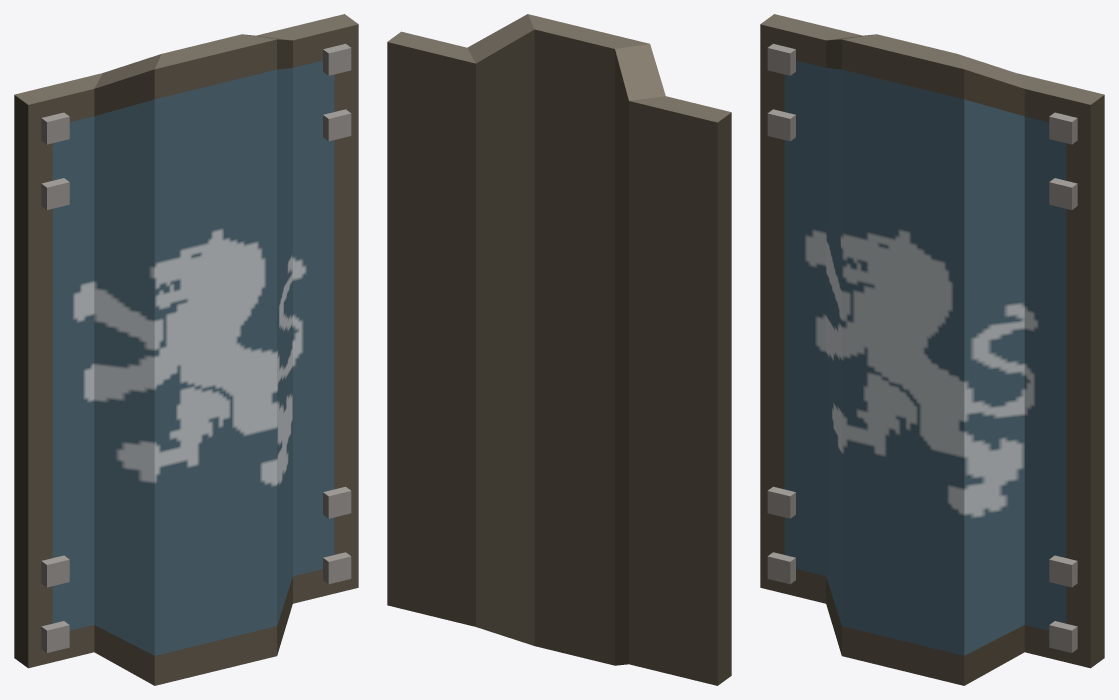
The model's file is SF_Wep_TowerShield_01.fbx.
The picture shows the model from 3 angles, left to right: view 1: azimuth 30°, elevation 25°; view 2: azimuth 150°, elevation 25°; view 3: azimuth 330°, elevation 25°; orthographic projection.
Visible parts, largest first — view 1: SF_Wep_TowerShield_01; view 2: SF_Wep_TowerShield_01; view 3: SF_Wep_TowerShield_01.
Part boxes in pixels (x1=…): SF_Wep_TowerShield_01: x1=14, y1=14, x2=358, y2=685; SF_Wep_TowerShield_01: x1=387, y1=14, x2=731, y2=685; SF_Wep_TowerShield_01: x1=760, y1=14, x2=1104, y2=685.
Size of the model in its own units: 1.33 by 2.37 by 0.2542.
